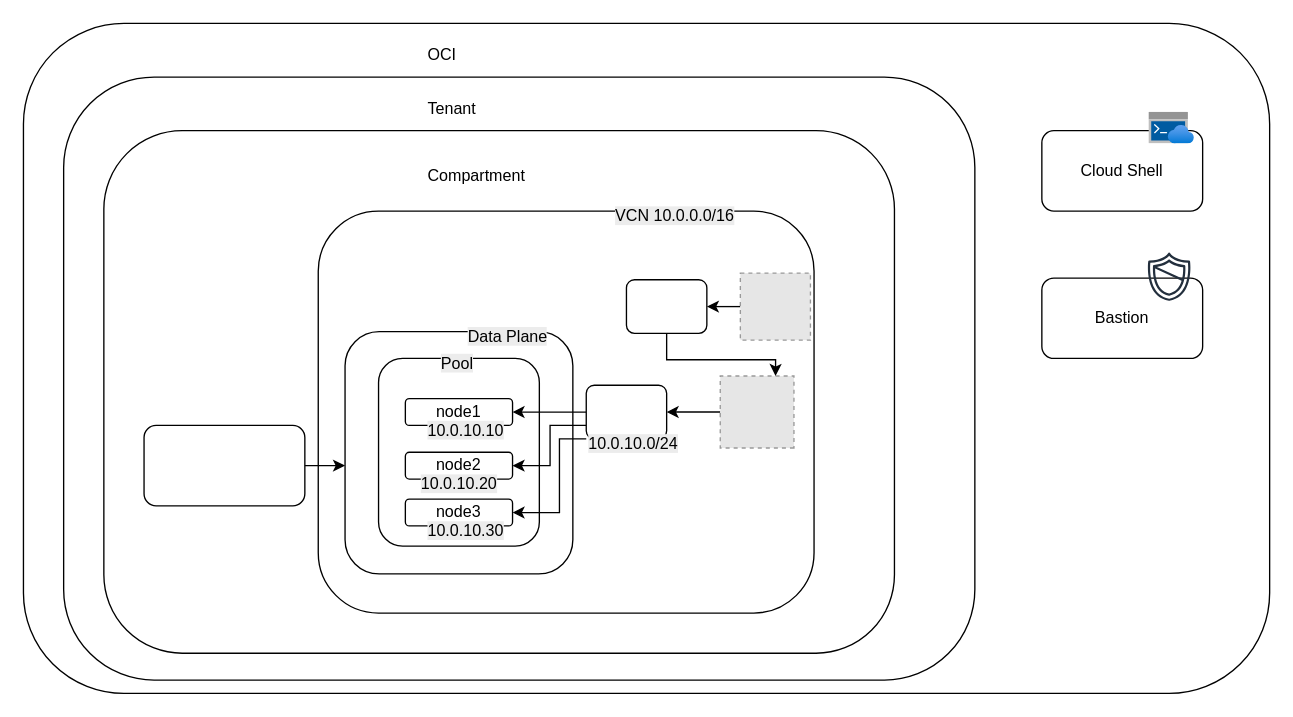
Image size: 1293x717. Some labels were removed from this diagram. Grey dashed boxes stand in for pictures. The centre of each missing label's shape, as x and y in pixels:
"Control Plane" goes at point (224, 465).
"Private Subnet" goes at point (626, 411).
"Public Subnet" goes at point (666, 305).
